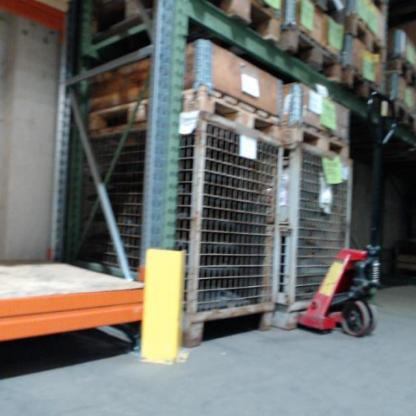pallet: (89, 84, 281, 145), (277, 24, 343, 85), (213, 0, 281, 43), (280, 120, 352, 157), (338, 11, 387, 63), (341, 65, 382, 109), (390, 98, 416, 133), (388, 55, 416, 86)
pallet_truck: (290, 86, 404, 349)
stillage: (68, 119, 288, 356), (270, 142, 363, 338)
